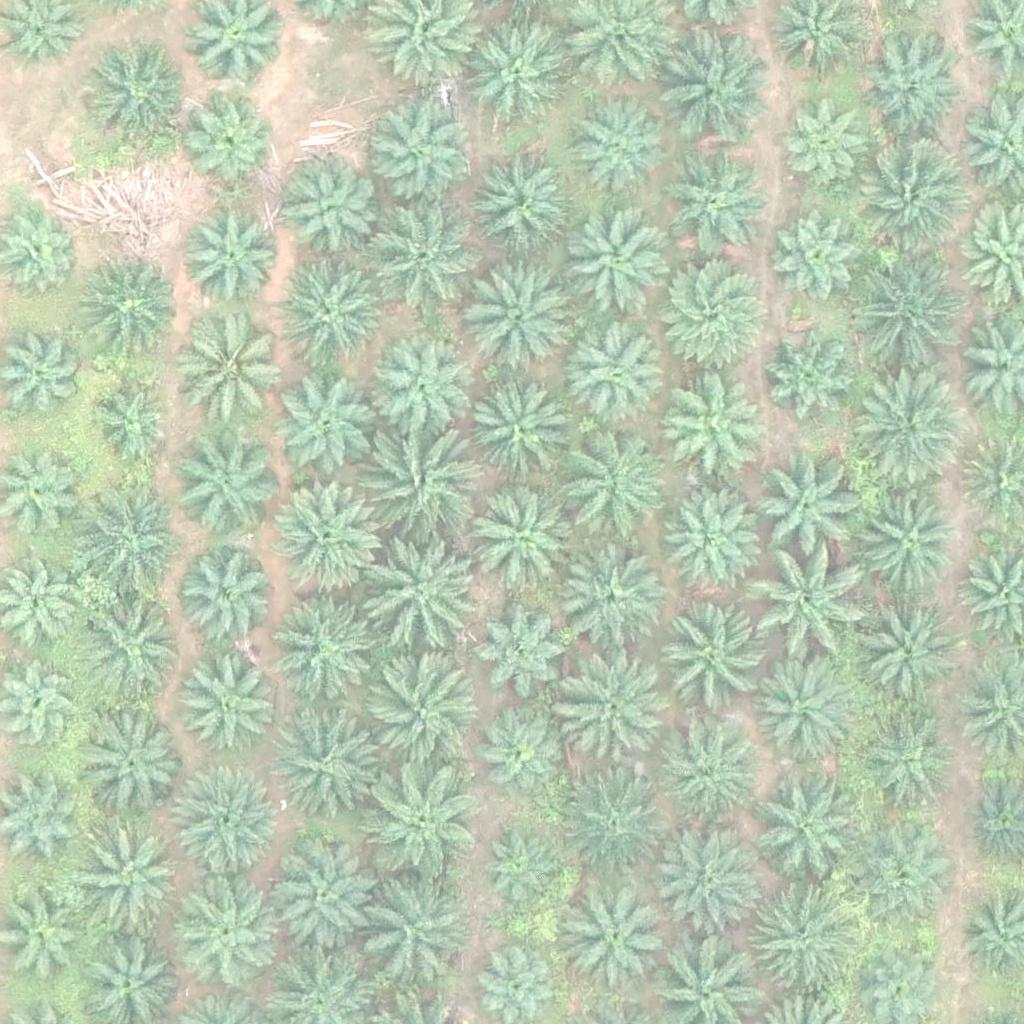Kelapa_Sawit: (553, 547, 666, 661), (271, 704, 384, 818), (746, 653, 859, 766), (750, 770, 863, 883), (743, 886, 856, 999), (656, 600, 769, 713), (361, 430, 474, 543), (370, 659, 483, 772), (264, 840, 377, 953), (271, 594, 384, 707), (168, 431, 281, 544), (170, 766, 283, 879), (76, 828, 189, 941), (74, 586, 187, 699), (75, 486, 188, 599), (651, 251, 764, 364), (558, 208, 671, 321), (269, 252, 382, 365), (851, 490, 963, 604), (365, 764, 477, 878), (852, 134, 964, 248), (849, 252, 961, 366), (656, 29, 768, 143), (850, 375, 962, 488), (855, 600, 967, 713), (748, 549, 860, 662), (647, 822, 759, 935), (560, 429, 672, 542), (561, 661, 673, 774), (560, 763, 672, 876), (561, 882, 673, 995), (466, 482, 578, 595), (367, 542, 479, 655), (356, 874, 468, 987), (270, 478, 382, 591), (464, 257, 576, 370), (368, 202, 480, 315), (362, 92, 474, 205), (178, 315, 290, 428), (850, 831, 950, 932), (662, 727, 762, 828), (668, 490, 768, 591), (473, 604, 573, 705), (173, 549, 273, 650), (181, 653, 281, 754), (177, 890, 277, 991), (84, 717, 184, 818), (861, 42, 961, 143), (758, 322, 858, 423), (657, 372, 757, 473), (566, 321, 666, 422), (565, 92, 665, 193), (464, 22, 564, 123), (468, 155, 568, 256), (463, 383, 563, 484), (372, 338, 472, 439), (279, 159, 379, 260), (272, 373, 372, 474), (184, 207, 284, 308), (83, 42, 183, 143), (860, 717, 960, 817), (751, 461, 851, 561), (771, 203, 871, 303), (662, 154, 762, 254), (78, 261, 178, 361), (783, 98, 871, 186), (87, 374, 175, 462), (485, 708, 572, 796), (187, 94, 274, 182), (483, 831, 558, 907)
